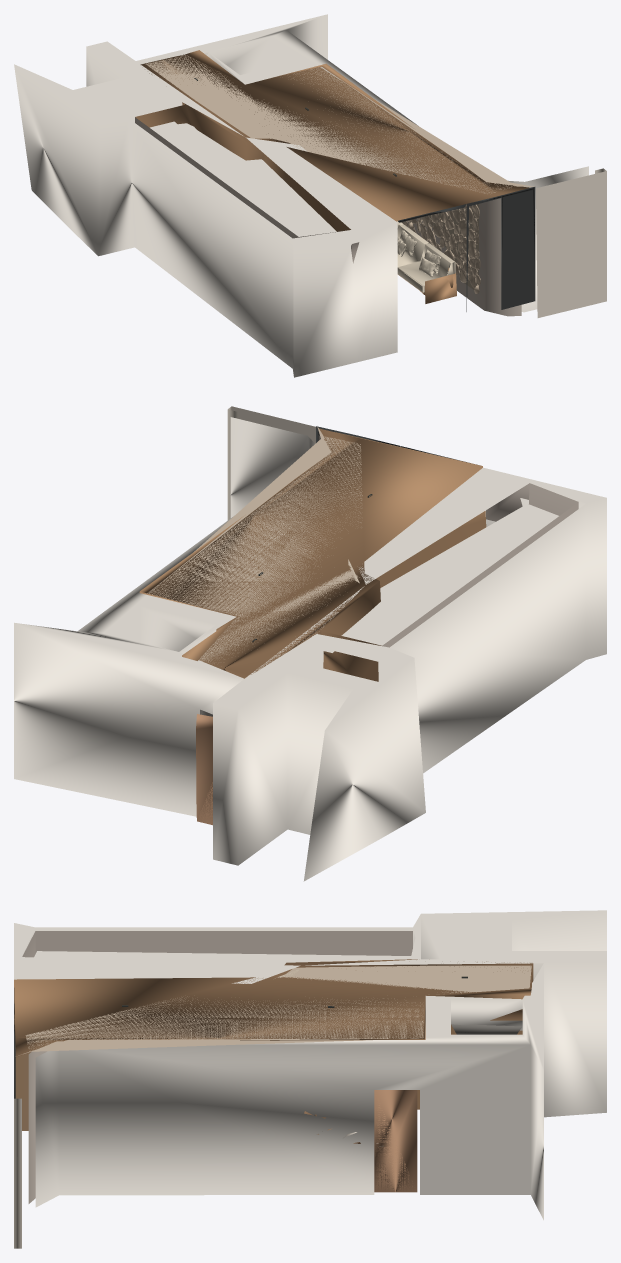
The model's file is alma-hall.glb.
3 views of the same model, one above another, from view 1: azimuth 30°, elevation 25°; view 2: azimuth 150°, elevation 25°; view 3: azimuth 270°, elevation 25° (orthographic). The views are drawn at different scales.
Size of the model in its own units: 8.26 by 3.12 by 10.99.
